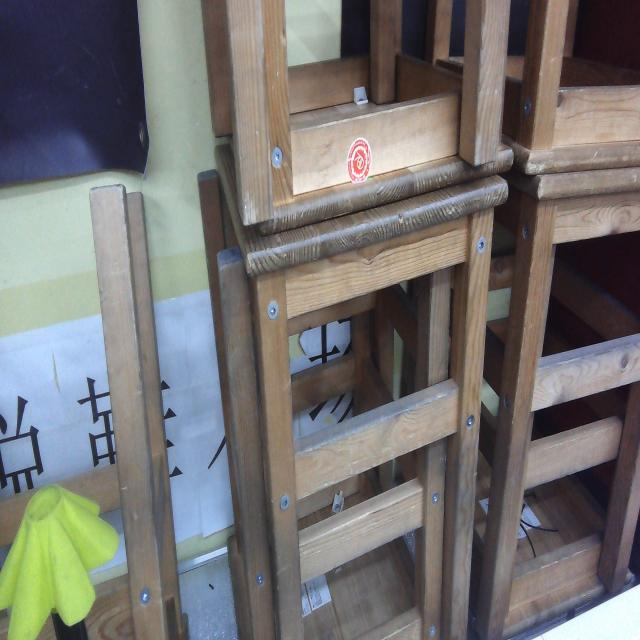Yellow-Stake-Head: (0, 484, 120, 640)
